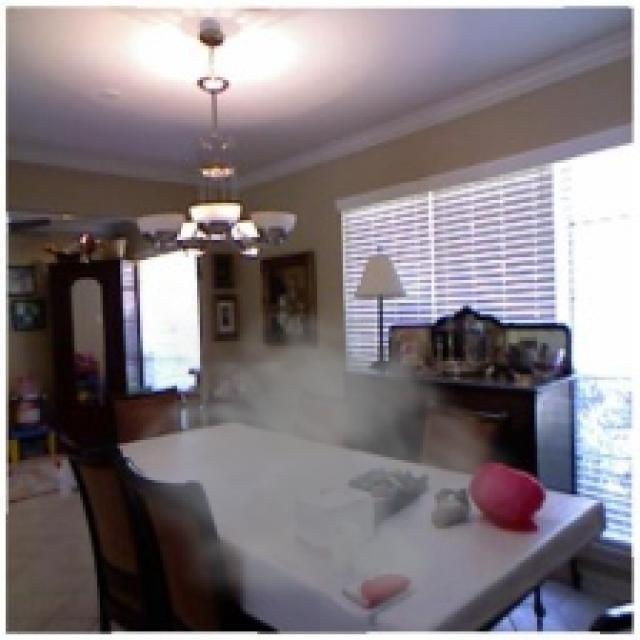Smoke: (109, 274, 532, 623)
